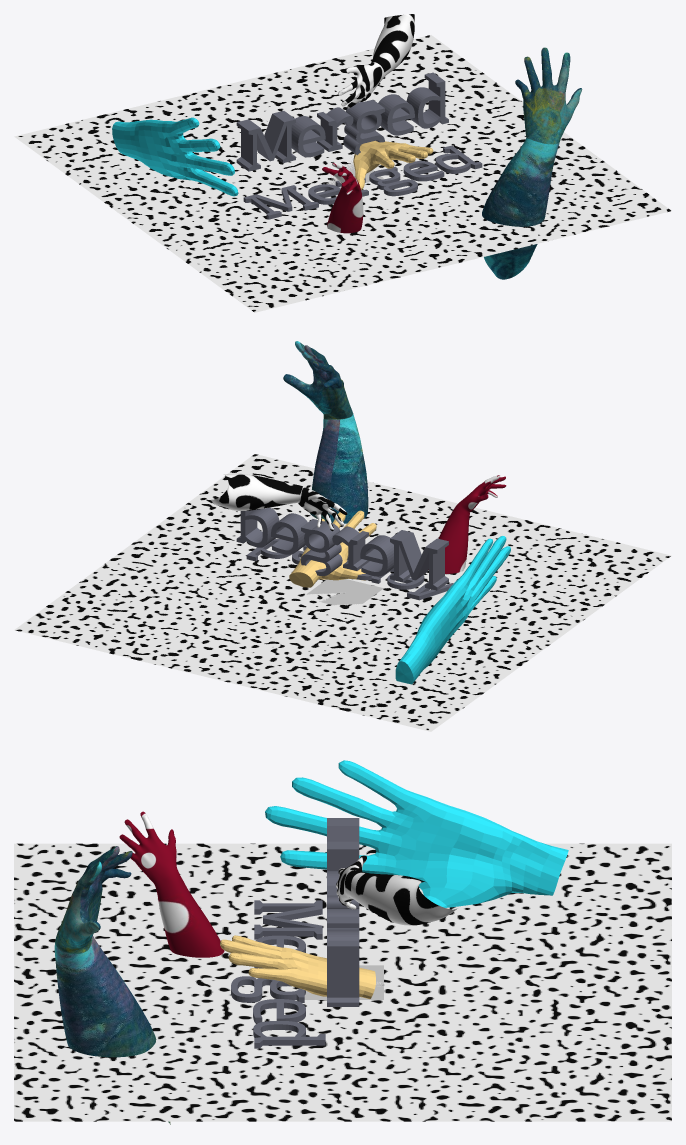
Rendered from mergedscene.glb.
The picture shows the model from 3 angles, top to bottom: view 1: azimuth 30°, elevation 25°; view 2: azimuth 150°, elevation 25°; view 3: azimuth 270°, elevation 25°; orthographic projection. The views are drawn at different scales.
Visible parts, largest first — view 1: Shadow Plane, base.obj.sub 3, Buffer Layer (×2), base.obj.sub 2, 3D Text - M, 3D Text - e (×2), base.obj.sub 1, 3D Text - d, 3D Text - g, 3D Text 1 - e (×2), 3D Text 1 - M, 3D Text - r (+2 smaller); view 2: Shadow Plane, base.obj.sub 3, Buffer Layer (×2), base.obj.sub 2, 3D Text - M, 3D Text - e (×2), base.obj.sub 1, 3D Text - g, SquarePlane, 3D Text - d, 3D Text - r; view 3: Shadow Plane, Buffer Layer (×2), base.obj.sub 3, base.obj.sub 1, base.obj.sub 2, 3D Text - d, 3D Text 1 - M, 3D Text - M, 3D Text 1 - d, 3D Text 1 - g, 3D Text 1 - e, 3D Text - g (+1 smaller).
Part boxes in pixels (bbox=[...]): Shadow Plane: bbox=[14, 35, 671, 312]; base.obj.sub 3: bbox=[482, 47, 582, 279]; Buffer Layer (×2): bbox=[112, 117, 433, 196]; base.obj.sub 2: bbox=[338, 14, 414, 108]; 3D Text - M: bbox=[236, 111, 295, 171]; 3D Text - e (×2): bbox=[291, 94, 414, 157]; base.obj.sub 1: bbox=[322, 163, 363, 233]; 3D Text - d: bbox=[406, 72, 448, 128]; 3D Text - g: bbox=[343, 99, 384, 155]; 3D Text 1 - e (×2): bbox=[308, 161, 444, 204]; 3D Text 1 - M: bbox=[243, 185, 318, 219]; 3D Text - r: bbox=[317, 107, 353, 151]; Shadow Plane: bbox=[14, 454, 671, 731]; base.obj.sub 3: bbox=[283, 341, 368, 523]; Buffer Layer (×2): bbox=[289, 512, 510, 684]; base.obj.sub 2: bbox=[205, 473, 347, 531]; 3D Text - M: bbox=[390, 530, 448, 590]; 3D Text - e (×2): bbox=[271, 513, 393, 576]; base.obj.sub 1: bbox=[428, 475, 506, 573]; 3D Text - g: bbox=[301, 519, 342, 575]; SquarePlane: bbox=[306, 579, 383, 605]; 3D Text - d: bbox=[236, 507, 279, 547]; 3D Text - r: bbox=[332, 526, 368, 570]; Shadow Plane: bbox=[14, 843, 671, 1121]; Buffer Layer (×2): bbox=[220, 760, 568, 999]; base.obj.sub 3: bbox=[54, 846, 170, 1124]; base.obj.sub 1: bbox=[119, 811, 224, 957]; base.obj.sub 2: bbox=[336, 855, 457, 925]; 3D Text - d: bbox=[327, 940, 359, 1006]; 3D Text 1 - M: bbox=[254, 900, 322, 939]; 3D Text - M: bbox=[327, 818, 359, 870]; 3D Text 1 - d: bbox=[253, 1021, 325, 1048]; 3D Text 1 - g: bbox=[231, 976, 305, 1002]; 3D Text 1 - e: bbox=[253, 999, 305, 1023]; 3D Text - g: bbox=[327, 909, 359, 930].
Bounding box in the file's own units: 0.8 × 0.4144 × 0.8.
Materials: 8 (4 with a texture image).
